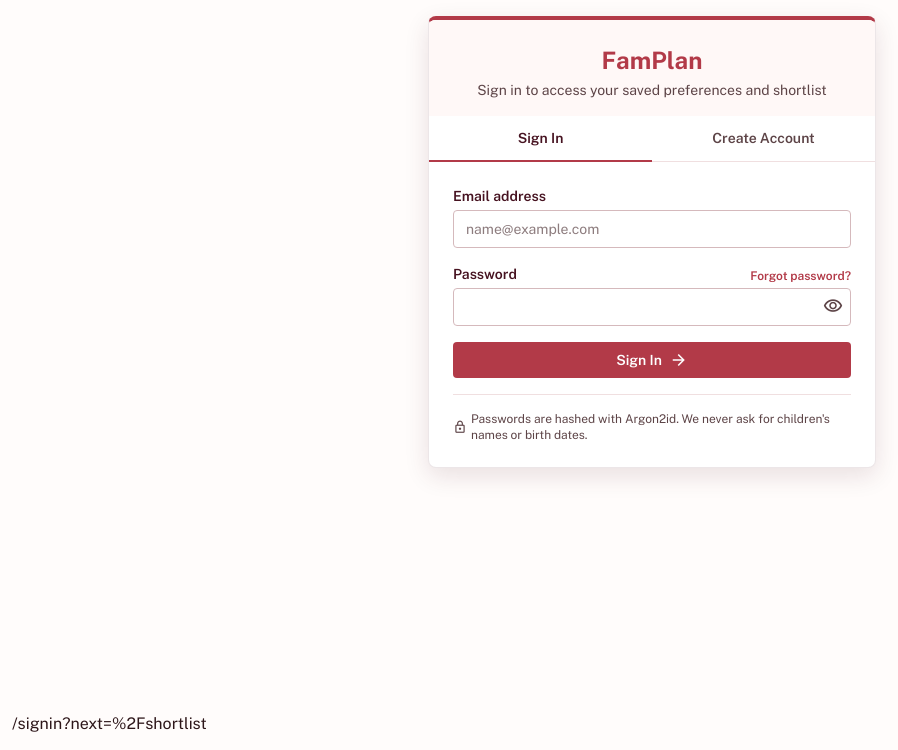
Test: reference dialog-map navigation › returns to the requested shortlist after a successful login
Type "parent@example.com" into the field labelled "Email address" at (652, 229), box left=453, top=210, right=851, bottom=248
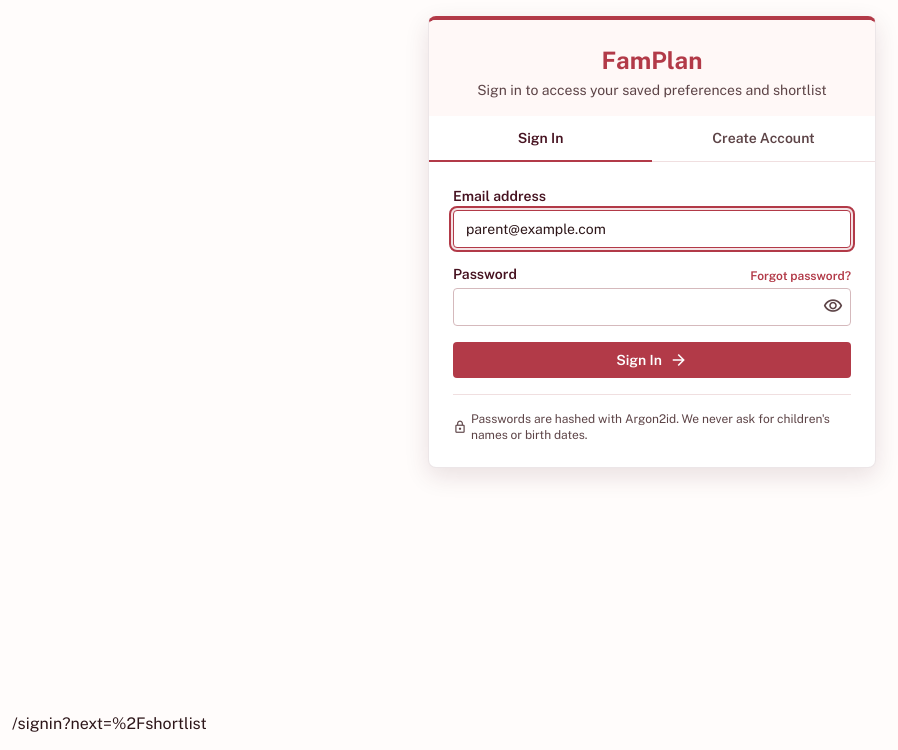
Type "FamilyTest123" into the password field labelled "Password" at (652, 307), box left=453, top=288, right=851, bottom=326
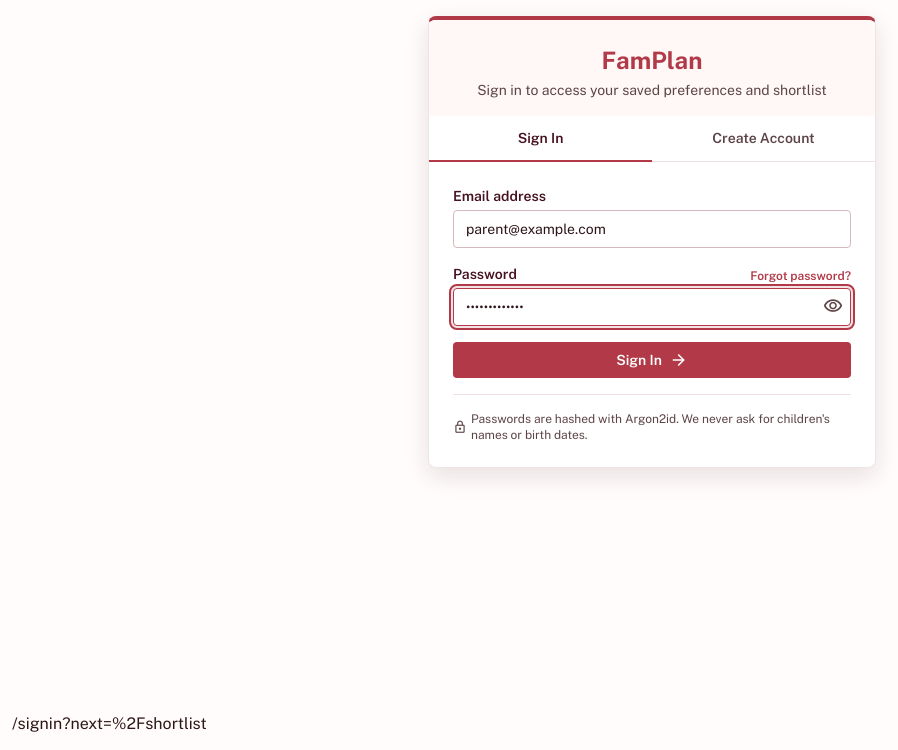
Submit the form "Sign In", box left=429, top=162, right=875, bottom=467
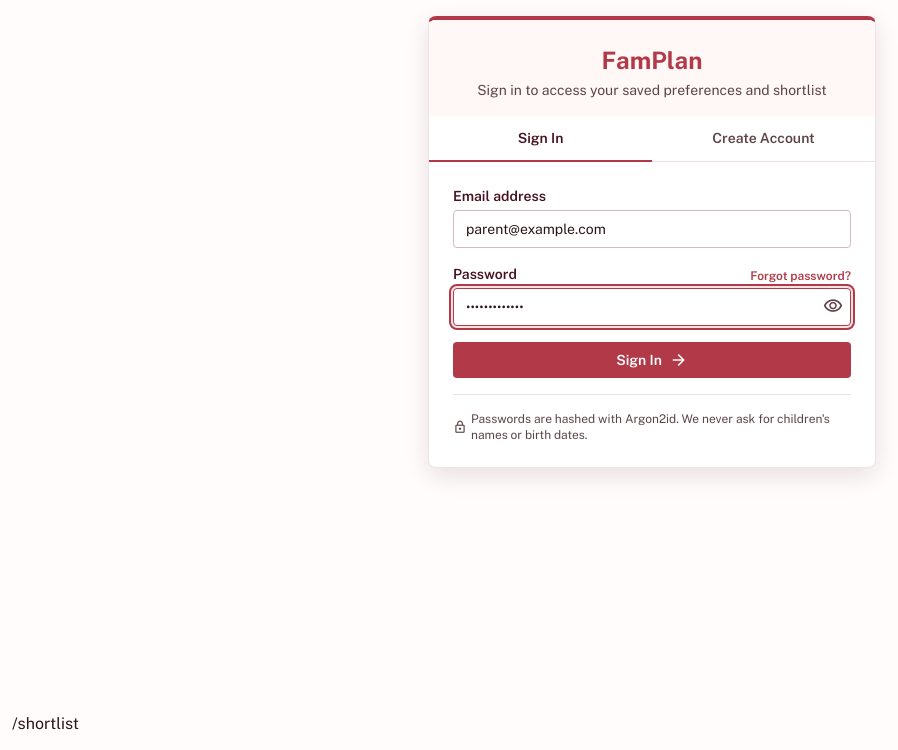
expect the text with test id "location" reads "/shortlist": met, box left=12, top=714, right=79, bottom=733
